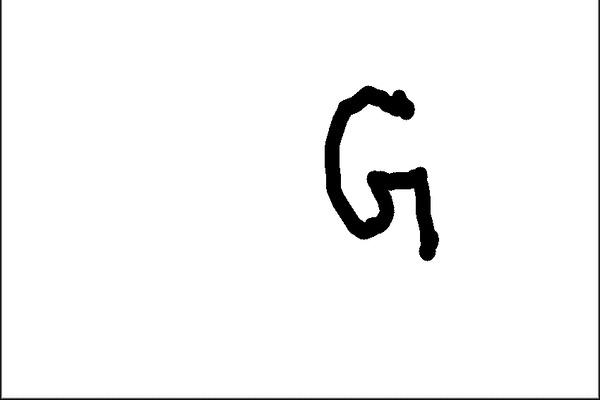G: (318, 80, 445, 261)
